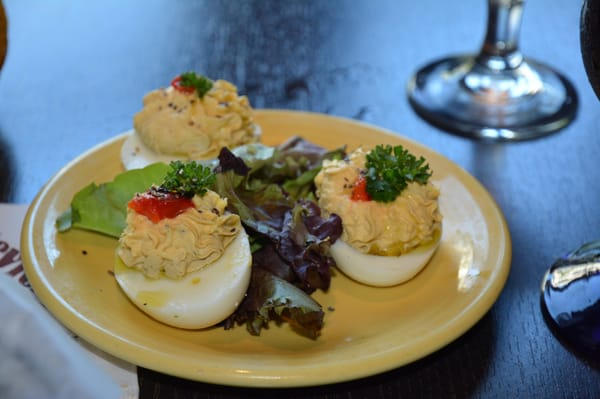curry: (364, 144, 431, 204)
